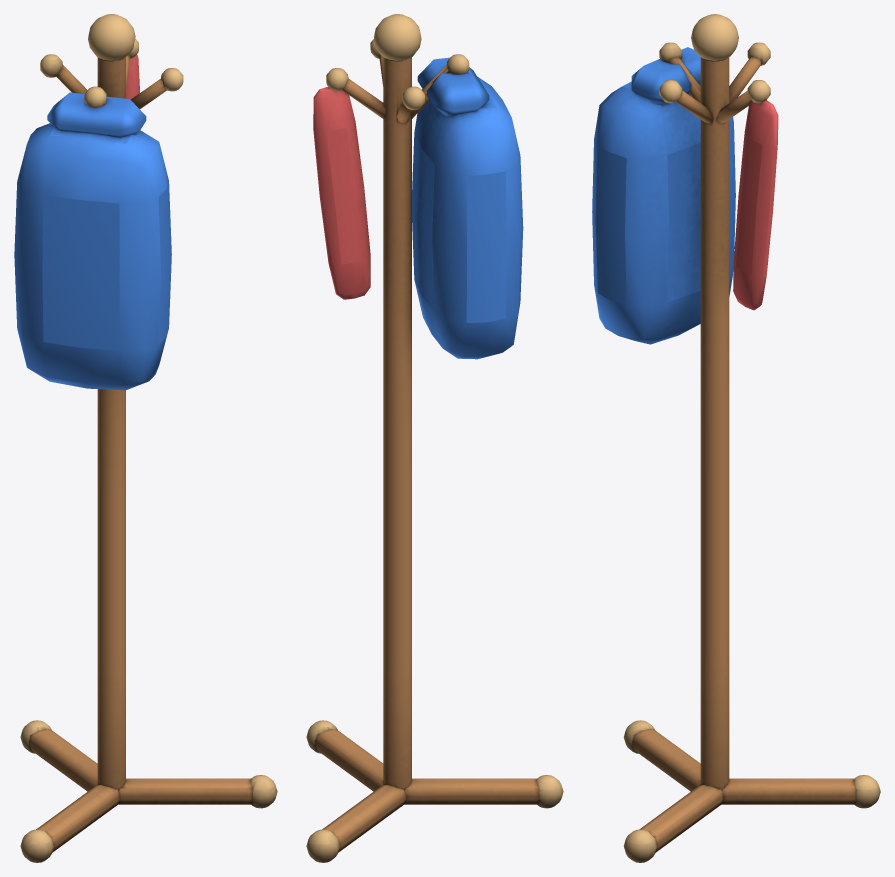
File: coat_rack.glb
3 renders of one model, left to right at view 1: azimuth 30°, elevation 25°; view 2: azimuth 150°, elevation 25°; view 3: azimuth 270°, elevation 25°, orthographic.
Visible parts, largest first — view 1: coat_rack; view 2: coat_rack; view 3: coat_rack.
Boxes of the visible parts, bbox=[...] form: coat_rack: bbox=[14, 14, 277, 862]; coat_rack: bbox=[306, 14, 563, 862]; coat_rack: bbox=[592, 14, 880, 862].
Size of the model in its own units: 0.6069 by 1.81 by 0.6006.
4 materials, 4 textured.
